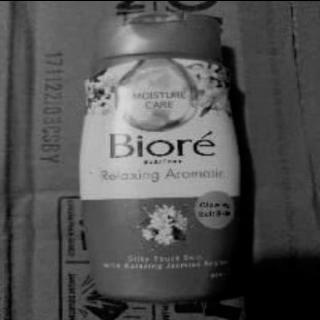objects: (84, 14, 234, 294)
